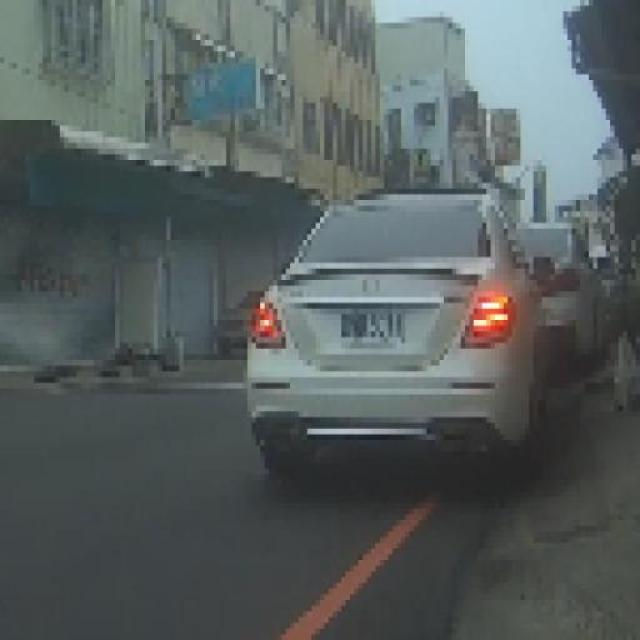illegalparking: (233, 160, 628, 534)
